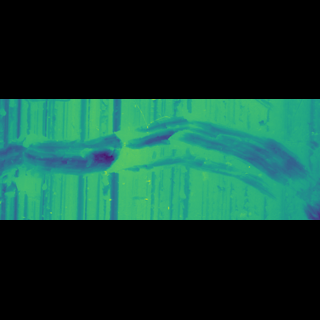Loch: (0, 141, 316, 178), (290, 172, 319, 183), (249, 136, 277, 143)
